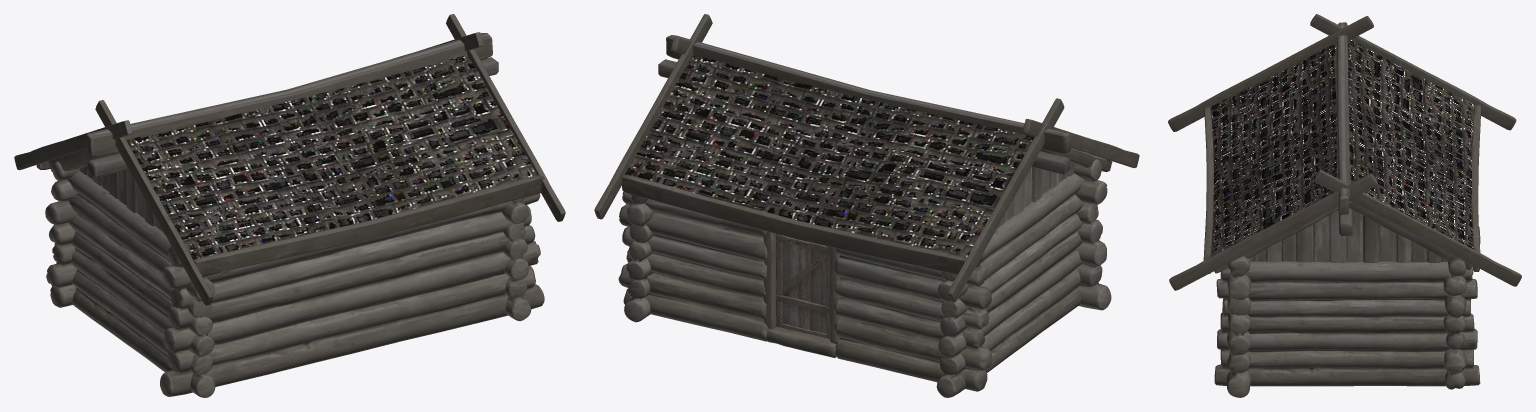
File: build_small_house_01_low.glb
The picture shows the model from 3 angles, left to right: view 1: azimuth 30°, elevation 25°; view 2: azimuth 150°, elevation 25°; view 3: azimuth 270°, elevation 25°; orthographic projection. The views are drawn at different scales.
Parts seen in each view (by area): view 1: build_small_house_01; view 2: build_small_house_01; view 3: build_small_house_01.
Boxes of the visible parts, x1=… form: build_small_house_01: x1=14, y1=14, x2=565, y2=397; build_small_house_01: x1=594, y1=14, x2=1139, y2=397; build_small_house_01: x1=1168, y1=14, x2=1521, y2=397.
Bounding box in the file's own units: 10.24 × 5.84 × 8.44.
Materials: 2 (2 with a texture image).
